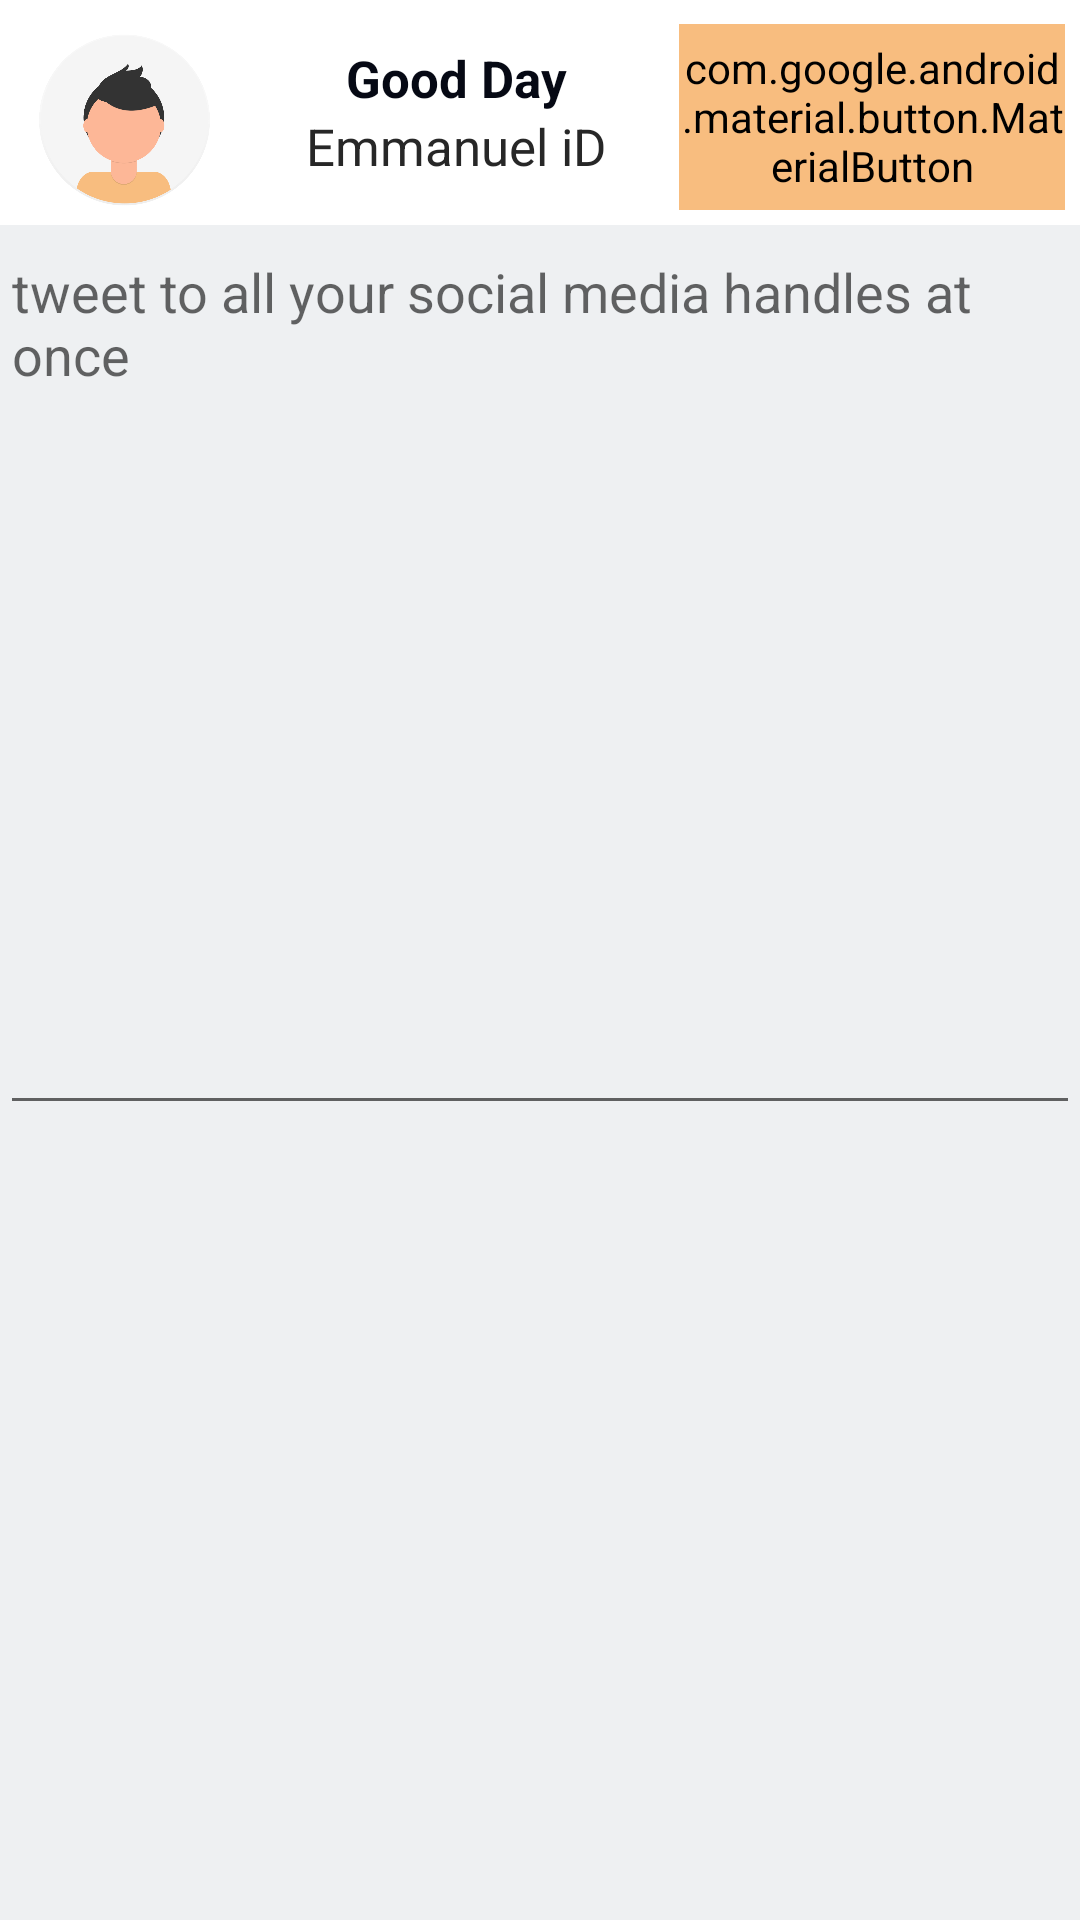

Point at icon controls on the screen. Image size 1080px×1920px, points as [x,y].
profile: [124,134]
